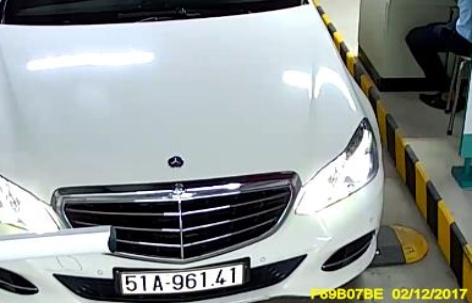plate: (108, 260, 251, 298)
